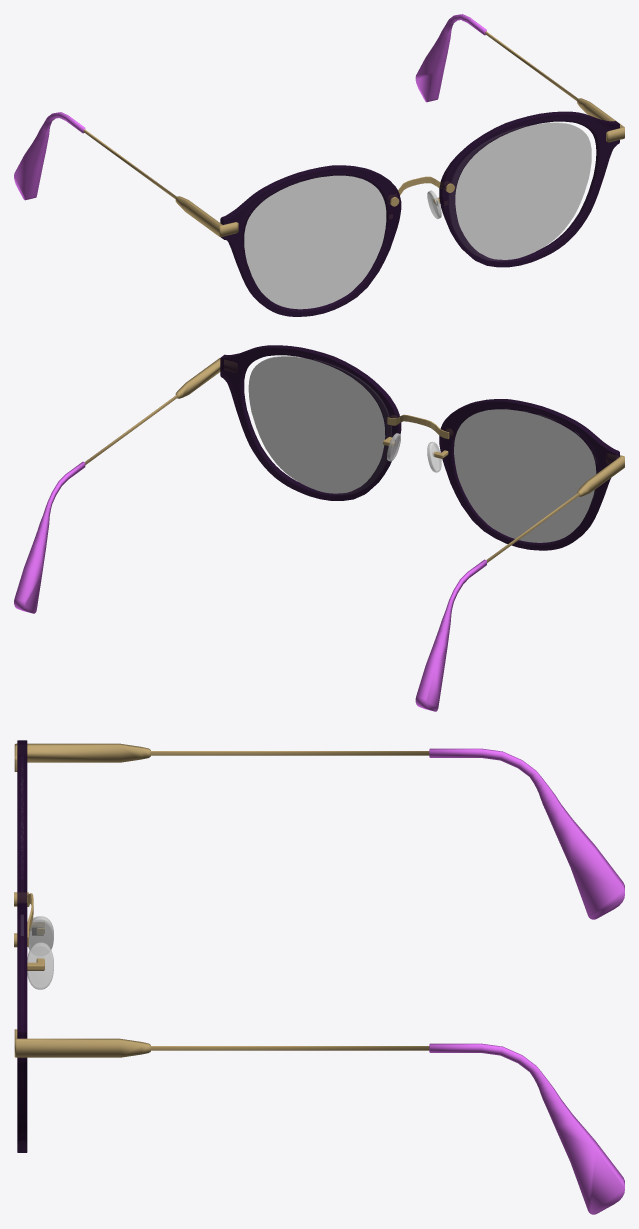
The picture shows the model from 3 angles, top to bottom: view 1: azimuth 30°, elevation 25°; view 2: azimuth 150°, elevation 25°; view 3: azimuth 270°, elevation 25°; orthographic projection. The views are drawn at different scales.
Parts seen in each view (by area): view 1: f12; view 2: f12; view 3: f12.
Boxes of the visible parts, x1,y1,x2,y2 form: f12: (14,14,624,316); f12: (14,345,624,711); f12: (14,740,624,1214).
Bounding box in the file's own units: 13.91 × 4.67 × 11.86.
